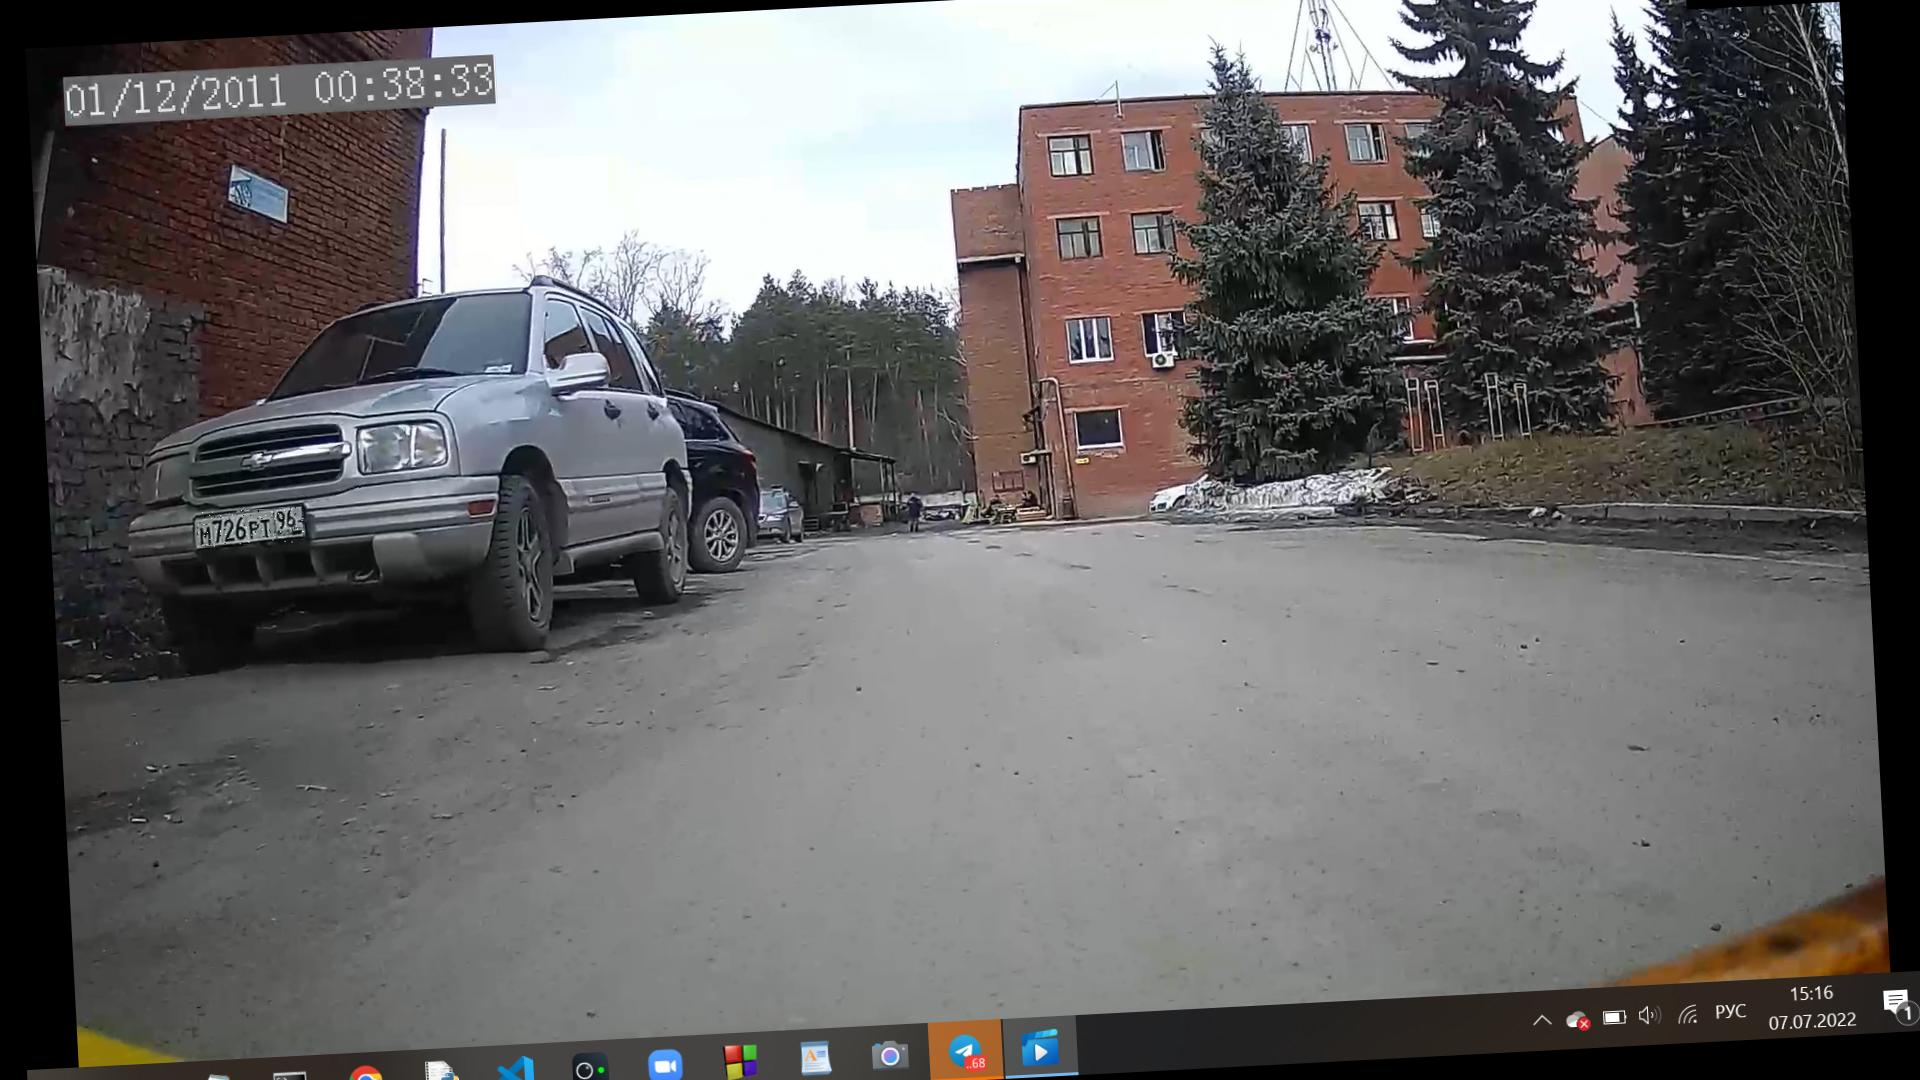plate: (196, 508, 306, 549)
